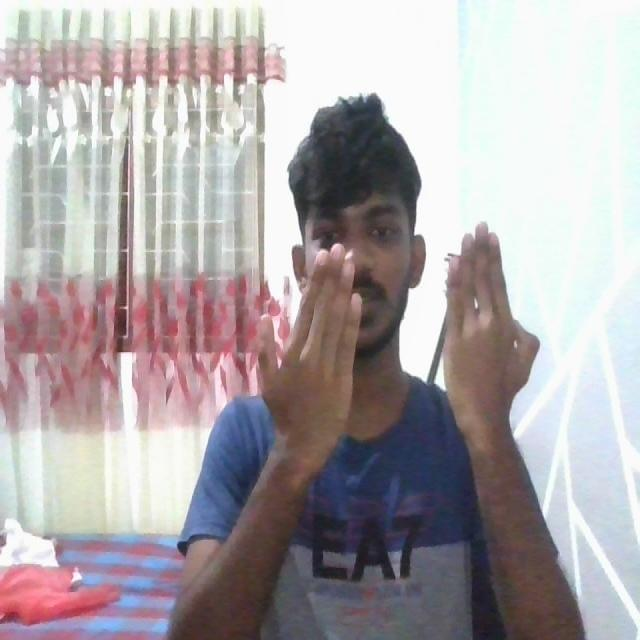ThankYou: (167, 218, 590, 640)
